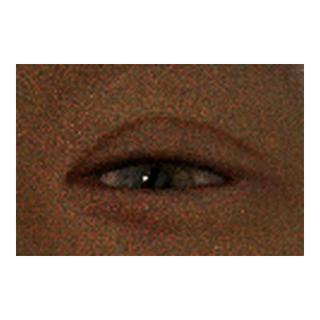pupil: (139, 168, 173, 202)
